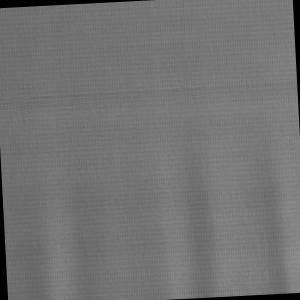Wrinkle: (4, 132, 300, 300)
